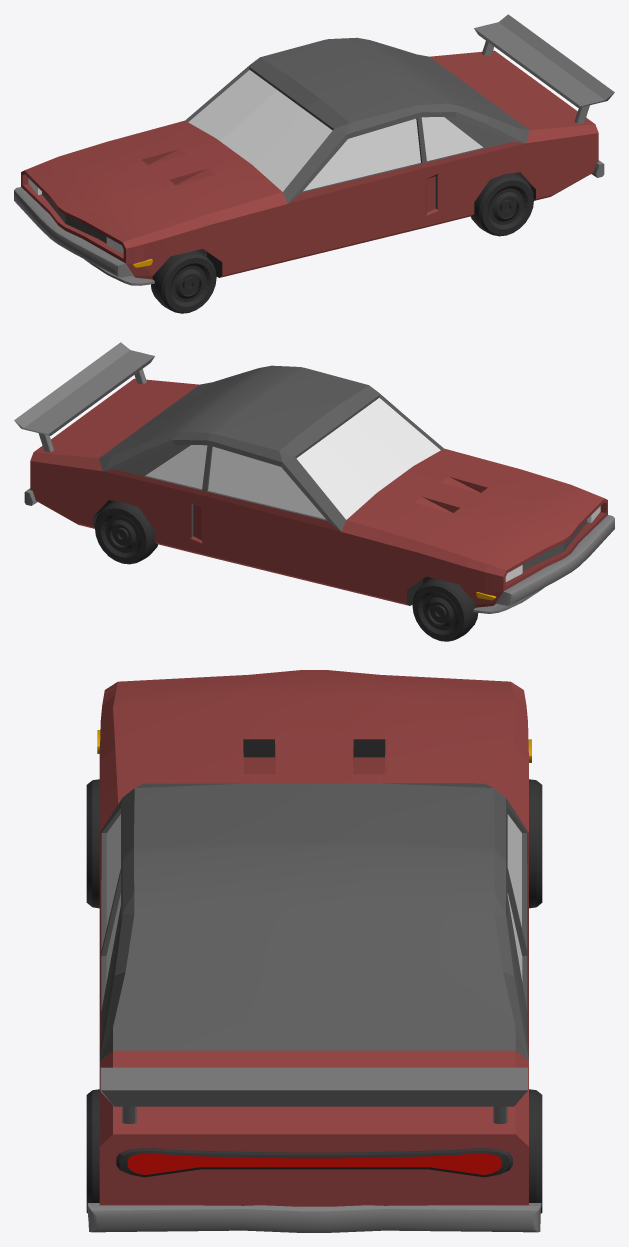
File: Car.fbx
3 renders of one model, top to bottom at view 1: azimuth 30°, elevation 25°; view 2: azimuth 150°, elevation 25°; view 3: azimuth 270°, elevation 25°, orthographic. The views are drawn at different scales.
Visible parts, largest first — view 1: Car; view 2: Car; view 3: Car.
Part boxes in pixels (left/top/right/bottom): Car: left=14, top=14, right=614, bottom=313; Car: left=14, top=342, right=614, bottom=641; Car: left=86, top=670, right=542, bottom=1232.
Bounding box in the file's own units: 429 × 117 × 167.
